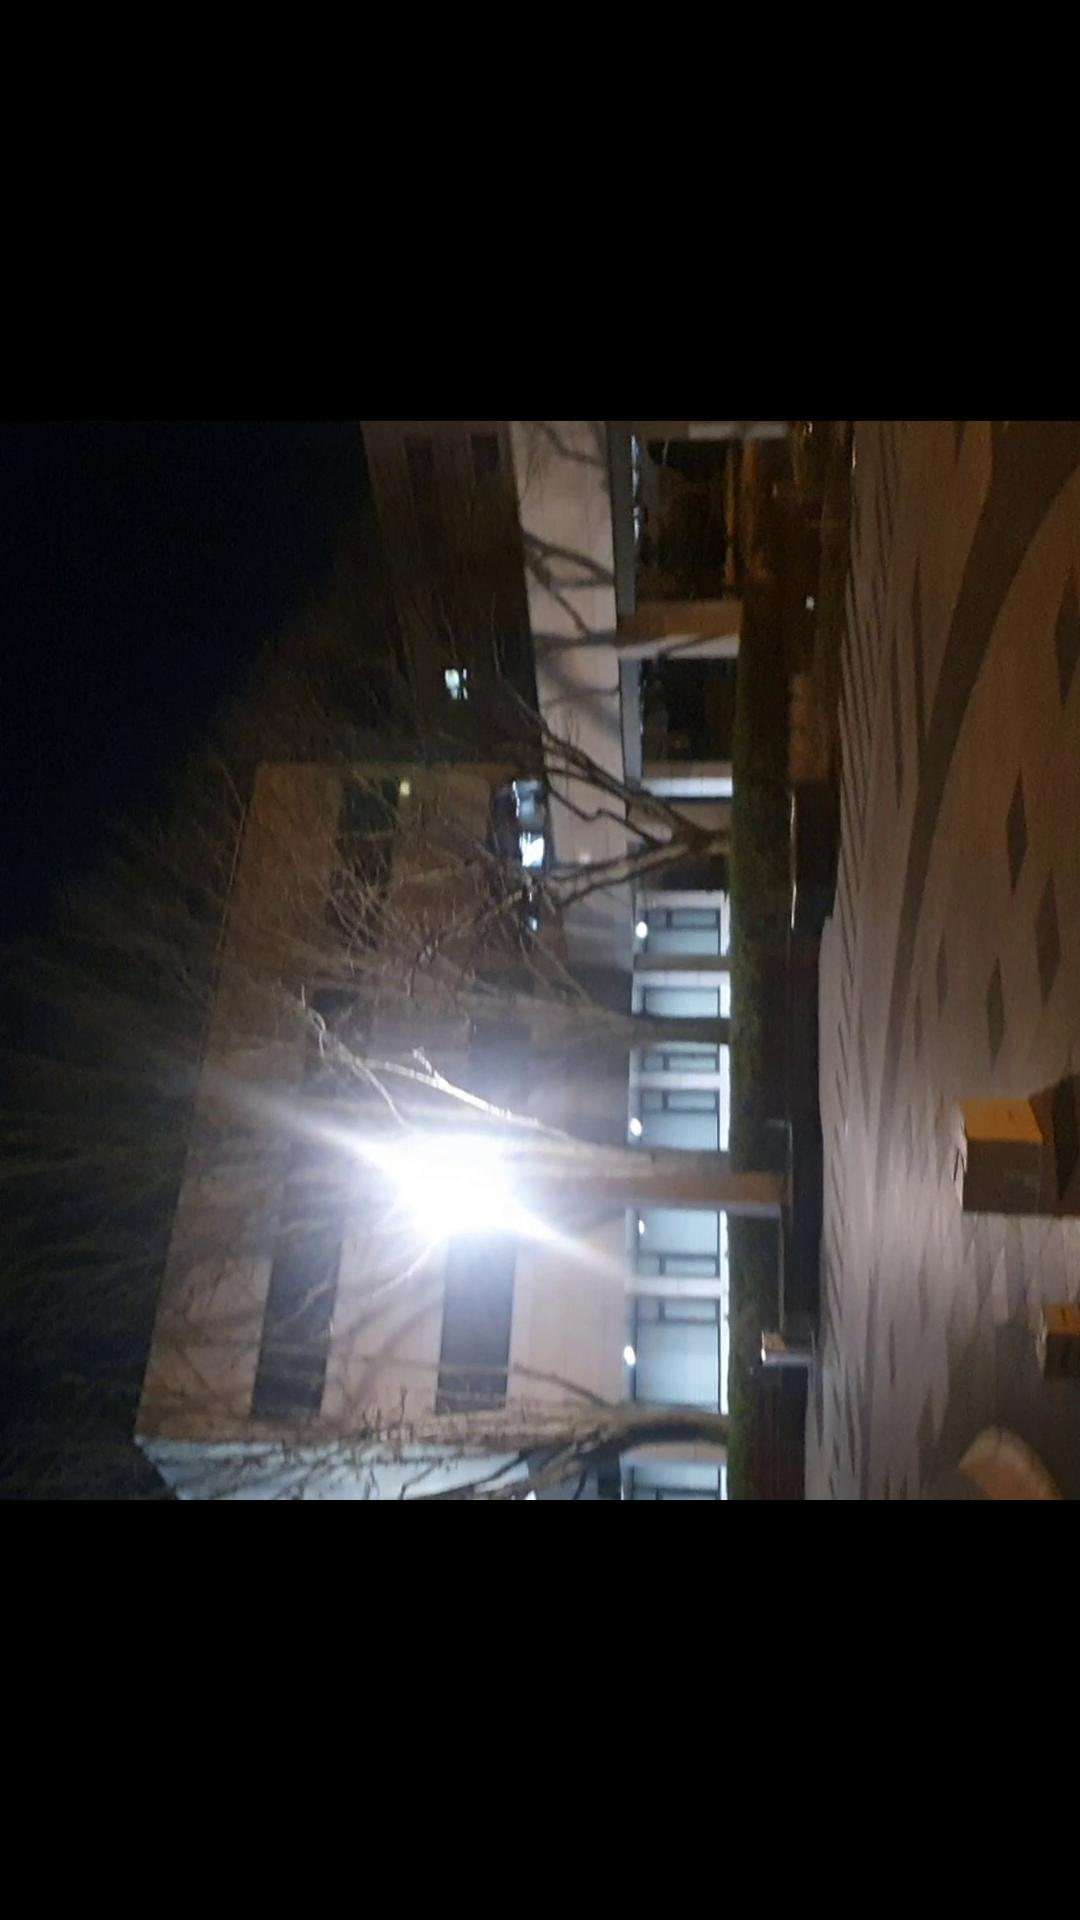Box: (928, 1098, 1077, 1222), (1013, 1288, 1080, 1396)
